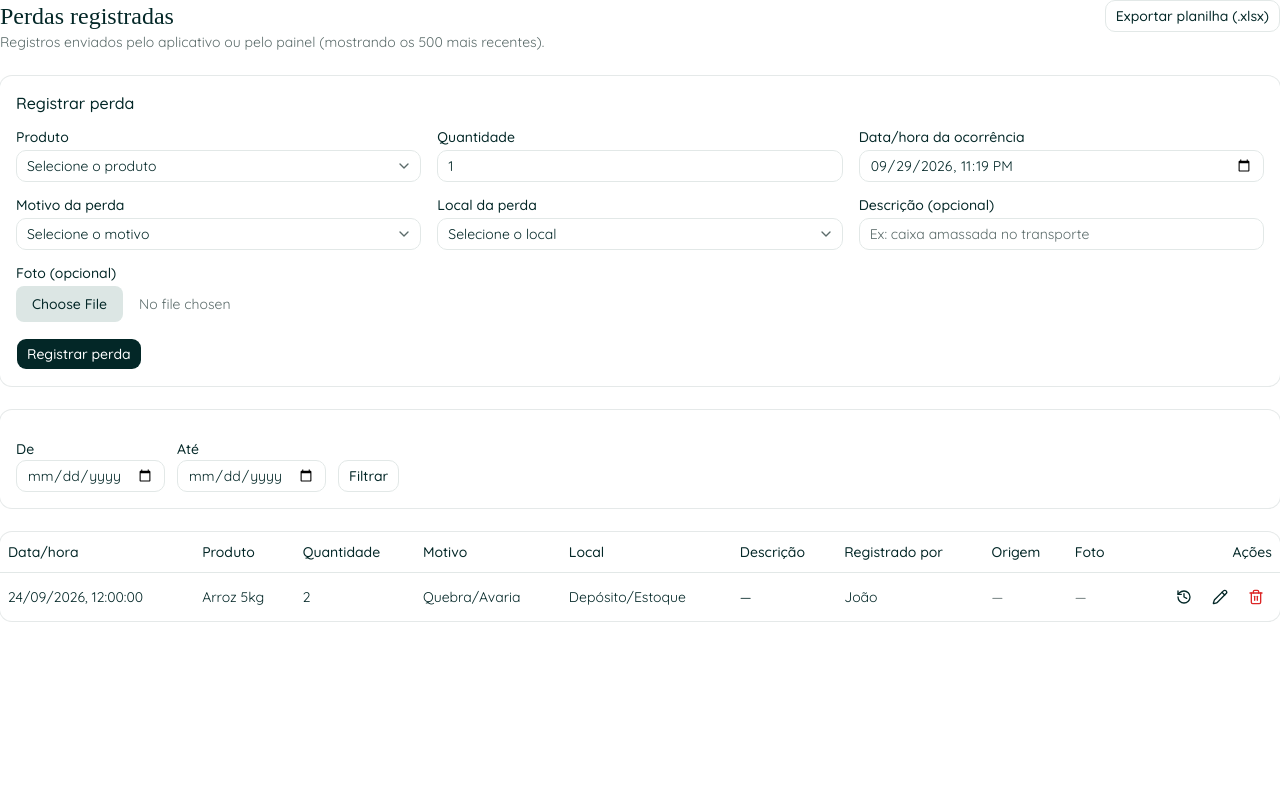
LossesClient — justificativa e aprovação (SP2, 2.2) › editar perda em modo aprovação mostra o aviso e fecha a edição
Click the button named "Editar perda".
click(1220, 596)  # box [1204,580,1236,612]
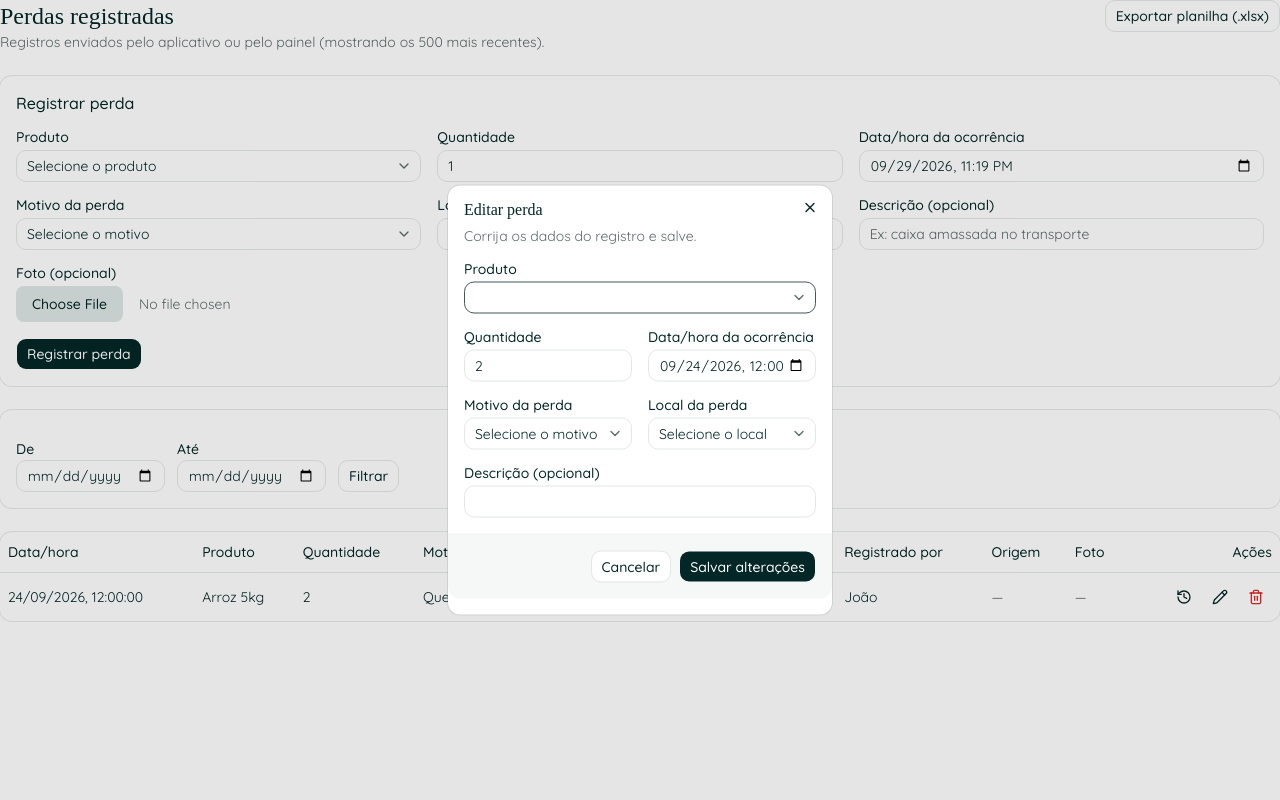
Click the button "Salvar alterações".
click(748, 566)  # box [679,550,816,582]
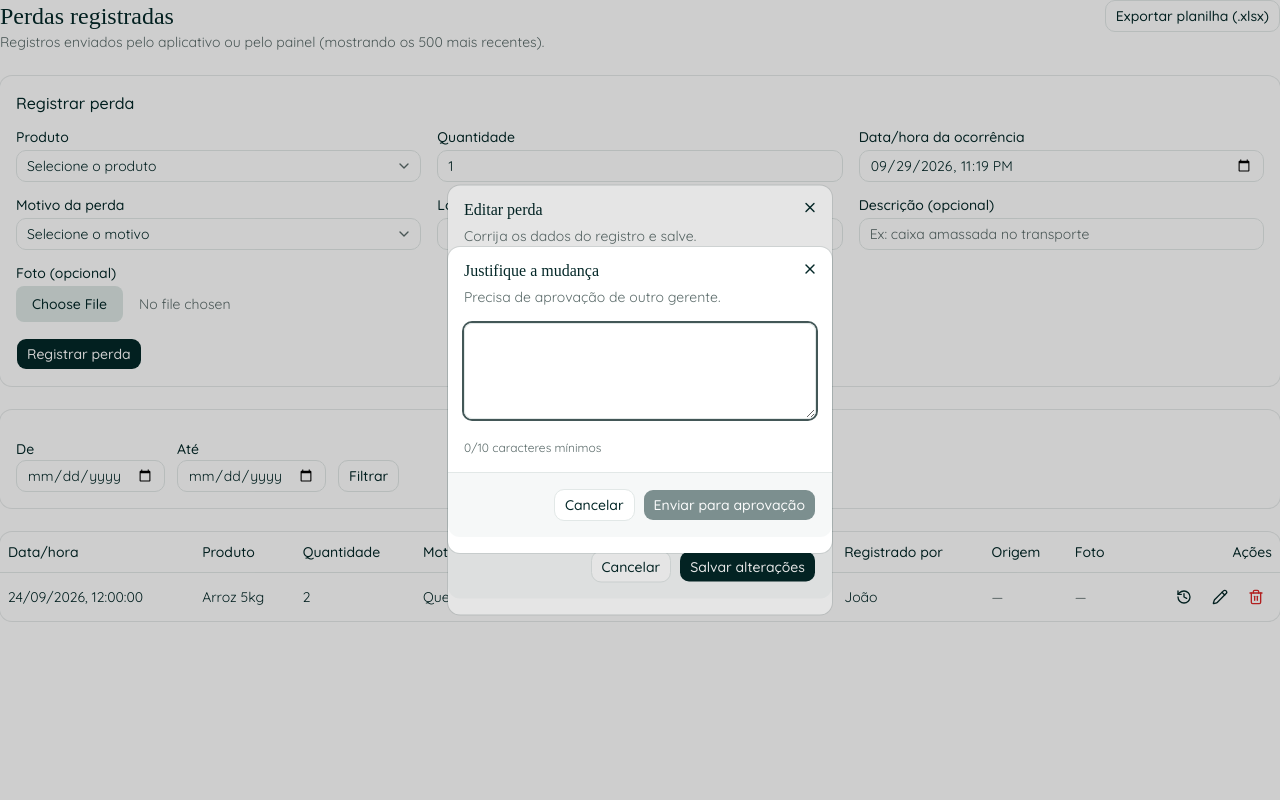
Type "Quantidade lançada errada" into the text box named "Justificativa".
click(640, 371); type("Quantidade lançada errada")  # box [464,323,816,419]
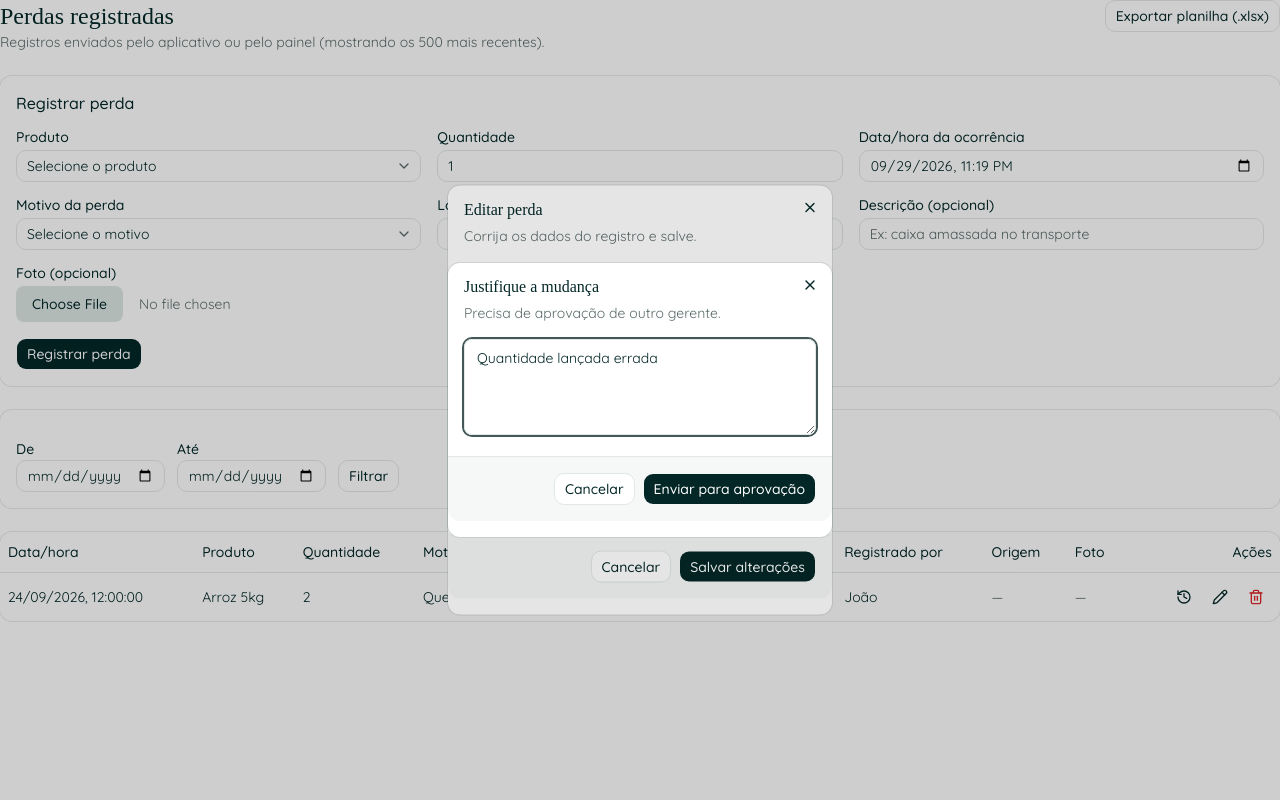
Click the button "Enviar para aprovação".
click(729, 489)  # box [643,473,816,505]
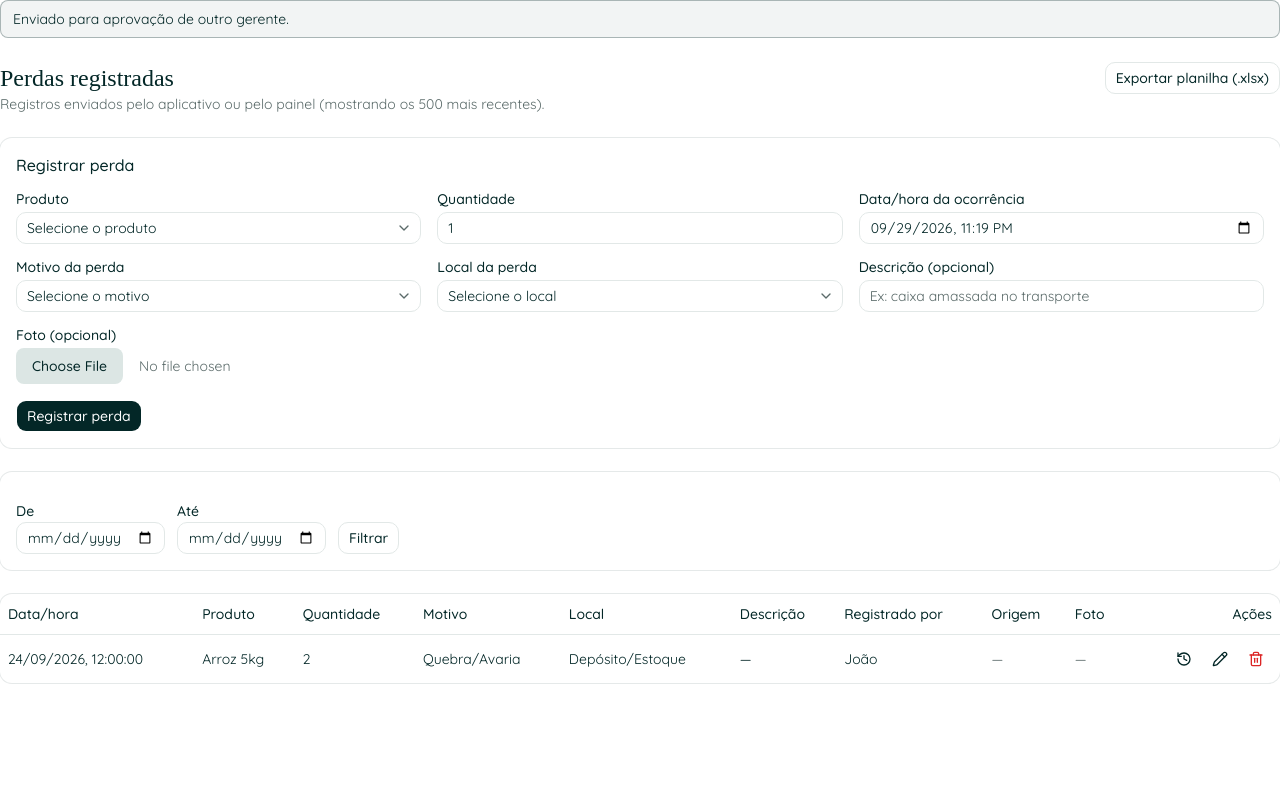
Now the text "Enviado para aprovação de outro gerente." is shown, box [0,0,1279,38]
Now the heading "Editar perda" is gone
